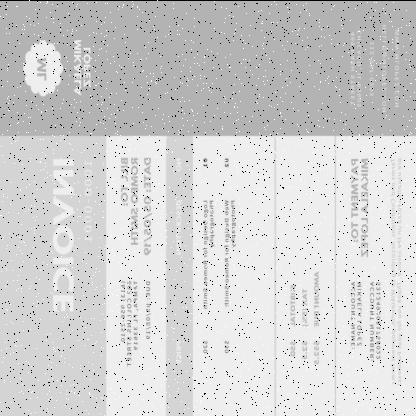Paragraph: (116, 152, 155, 370), (48, 154, 96, 316), (347, 18, 401, 115), (388, 154, 406, 390), (286, 266, 322, 367), (347, 154, 371, 260), (366, 278, 384, 364), (70, 35, 93, 98), (348, 278, 364, 351)
Table: (173, 152, 239, 370)
